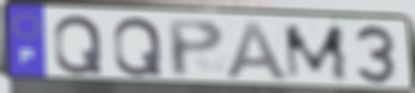3: (353, 23, 398, 87)
A: (223, 19, 293, 83)
M: (281, 24, 352, 83)
P: (164, 18, 227, 80)
Q: (111, 15, 165, 78), (51, 13, 105, 76)
